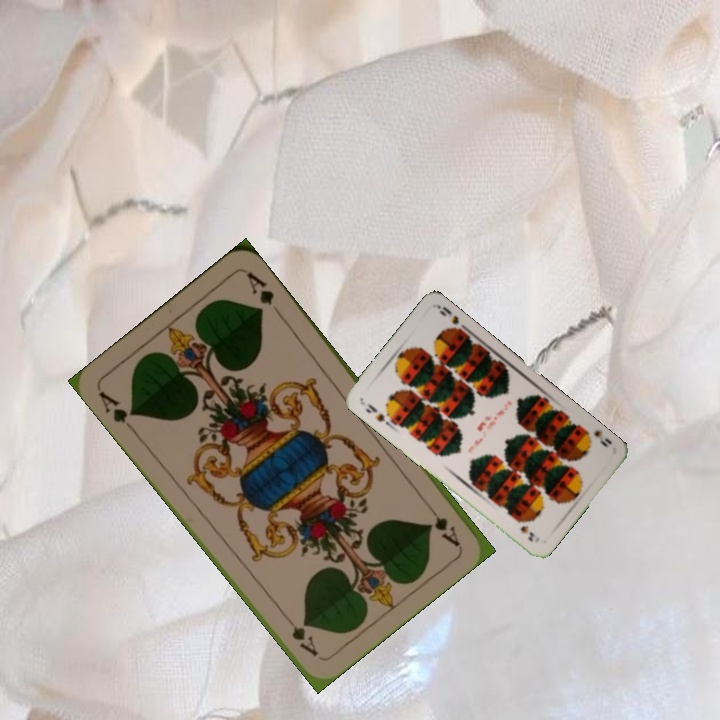GA: (420, 497, 463, 549), (94, 387, 139, 435)
S9: (579, 424, 615, 449), (362, 399, 388, 424)
